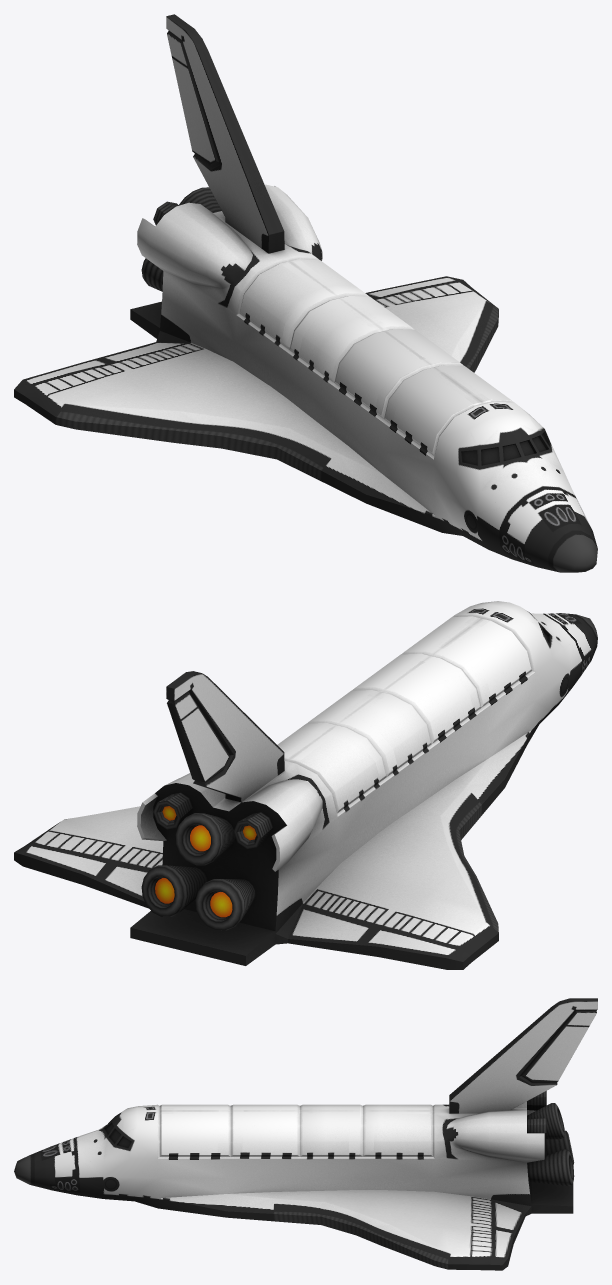
3 renders of one model, top to bottom at view 1: azimuth 30°, elevation 25°; view 2: azimuth 150°, elevation 25°; view 3: azimuth 270°, elevation 25°, orthographic. The views are drawn at different scales.
Parts seen in each view (by area): view 1: shuttle; view 2: shuttle; view 3: shuttle.
Boxes of the visible parts, x1,y1,x2,y2 form: shuttle: (14,14,597,572); shuttle: (14,601,597,969); shuttle: (14,998,597,1270).
Bounding box in the file's own units: 35.15 × 20.73 × 56.48.
1 material, 1 textured.
